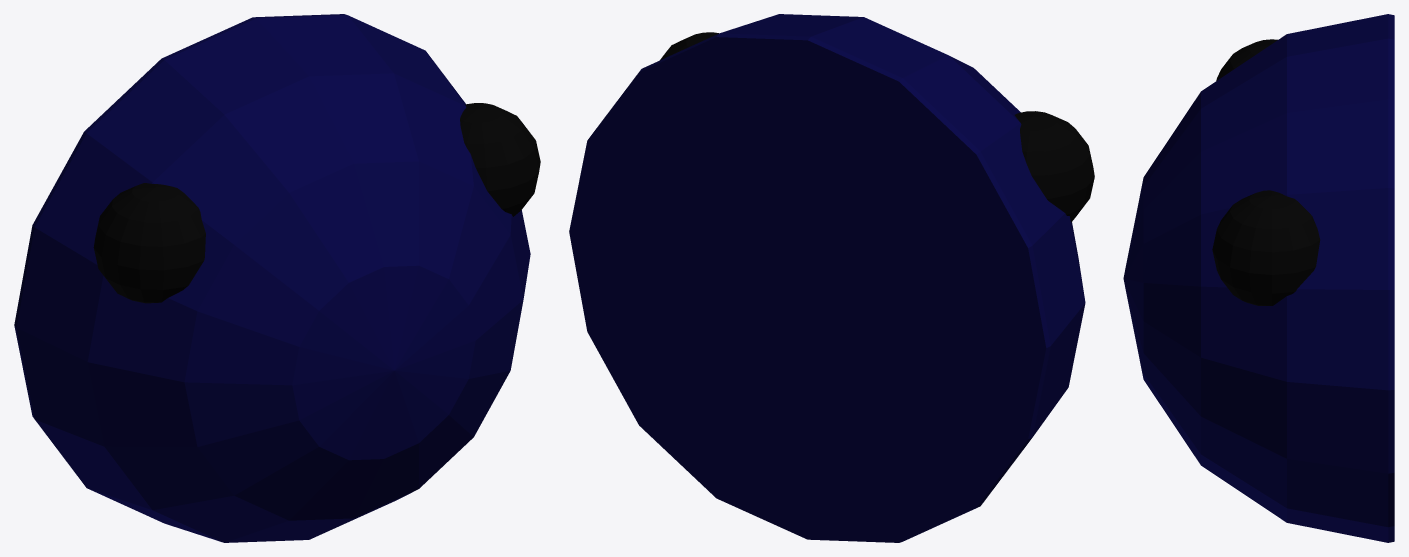
The model's file is blue_top.obj.
3 renders of one model, left to right at view 1: azimuth 30°, elevation 25°; view 2: azimuth 150°, elevation 25°; view 3: azimuth 270°, elevation 25°, orthographic. The views are drawn at different scales.
Visible parts, largest first — view 1: Sphere_Sphere.000_Sphere_Sphere.001, Sphere.001_Sphere.001, Sphere_Sphere.001; view 2: Sphere_Sphere.000_Sphere_Sphere.001, Sphere.001_Sphere.001; view 3: Sphere_Sphere.000_Sphere_Sphere.001, Sphere_Sphere.001, Sphere.001_Sphere.001.
Part boxes in pixels (x1,y1,x2,y2): Sphere_Sphere.000_Sphere_Sphere.001: (14,14,530,542); Sphere.001_Sphere.001: (93,183,205,303); Sphere_Sphere.001: (460,103,540,216); Sphere_Sphere.000_Sphere_Sphere.001: (569,14,1085,542); Sphere.001_Sphere.001: (1014,111,1094,222); Sphere_Sphere.000_Sphere_Sphere.001: (1123,14,1394,542); Sphere_Sphere.001: (1212,190,1320,305); Sphere.001_Sphere.001: (1216,39,1277,80).
Bounding box in the file's own units: 5.32 × 5.32 × 2.73.
